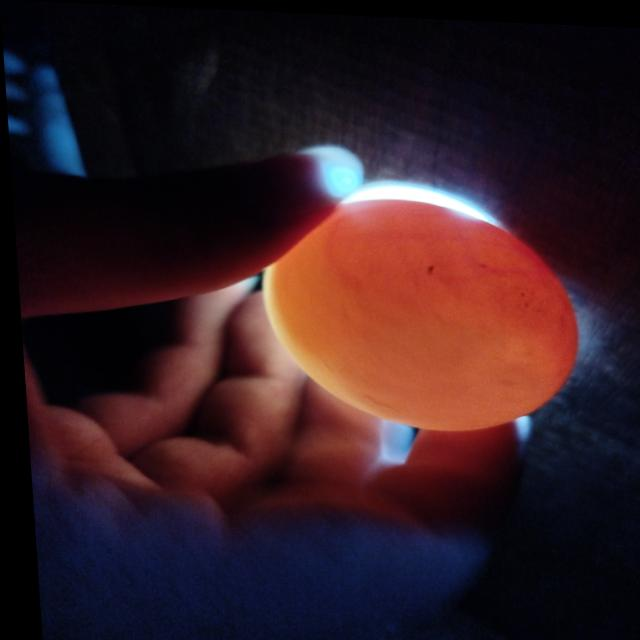Camara de Ar: (426, 200, 572, 382)
